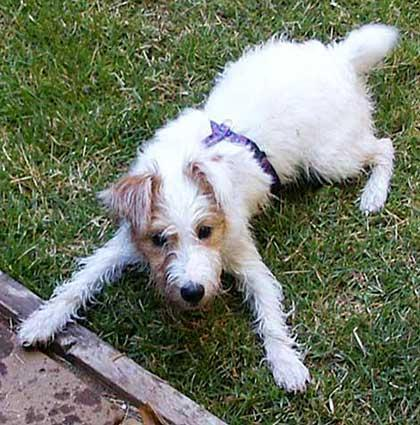wire-haired_fox_terrier: (13, 20, 402, 397)
